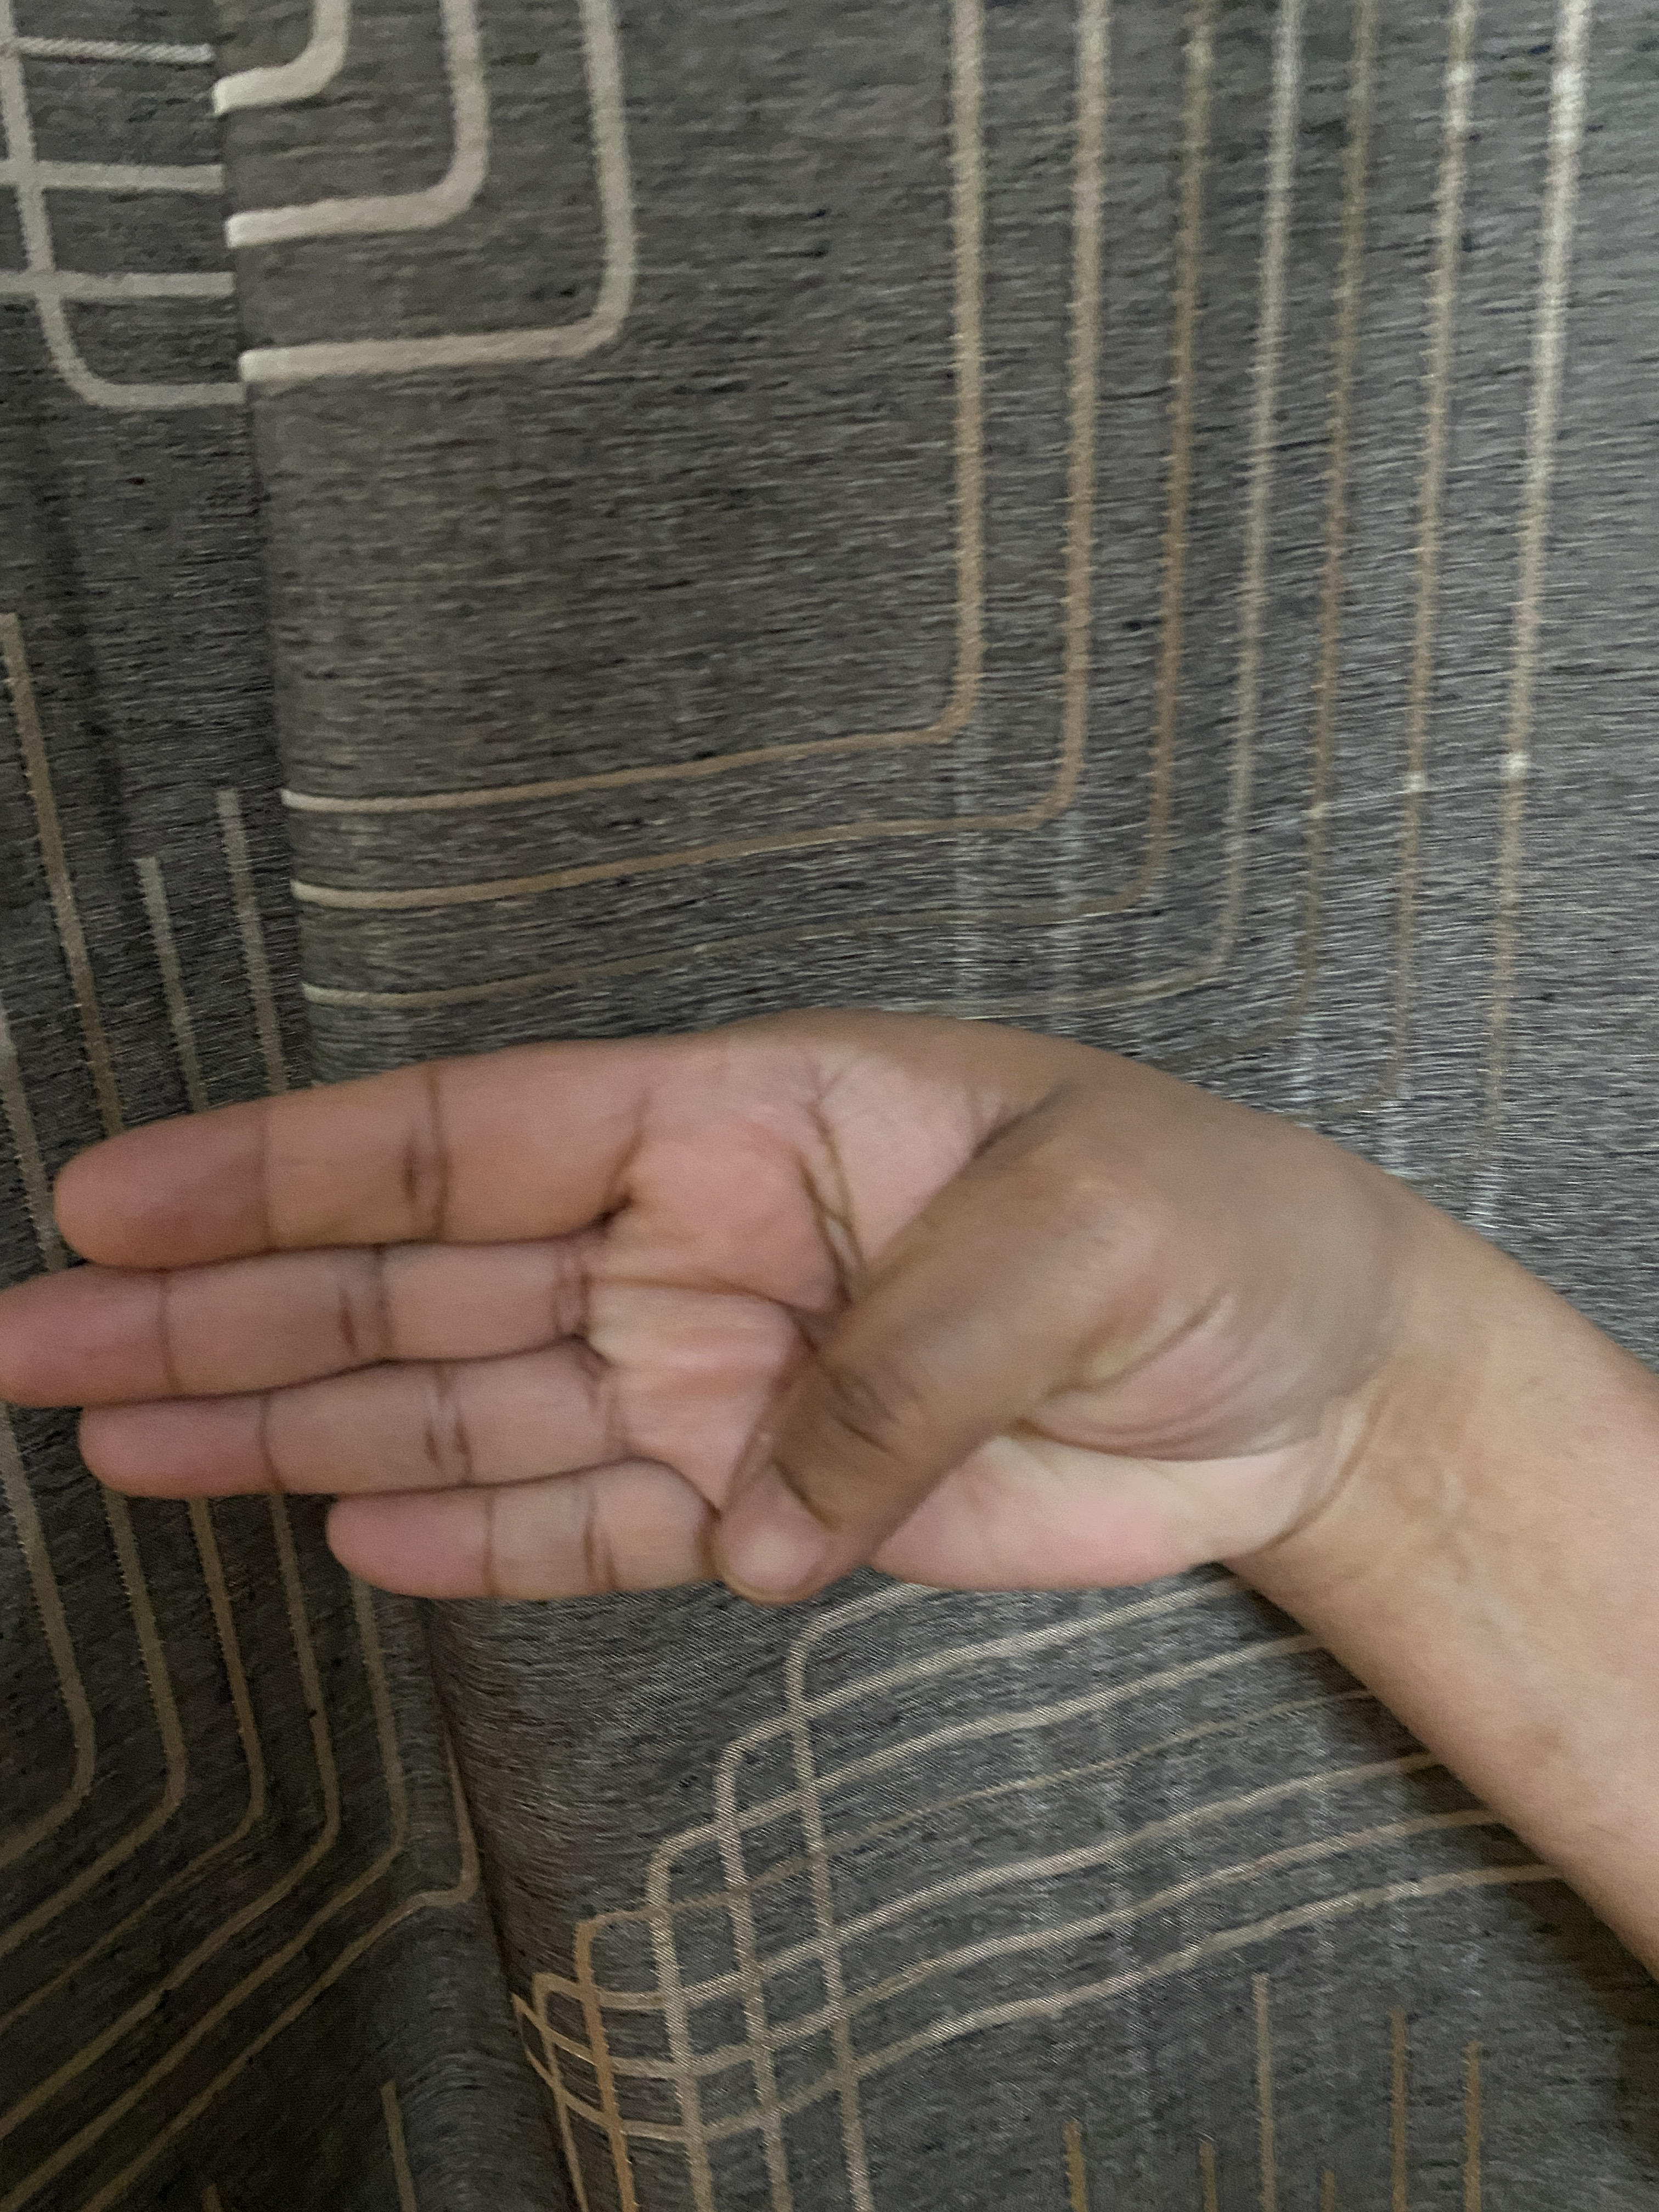right: (45, 803, 1659, 1909)
